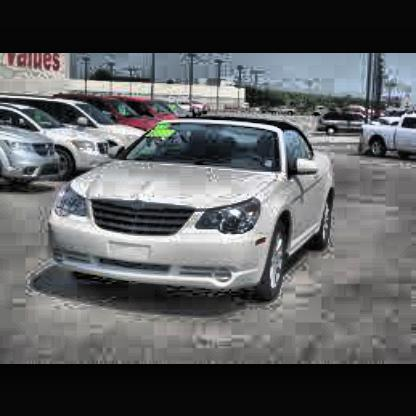Chrysler Sebring Convertible 2010: (49, 116, 338, 305)
